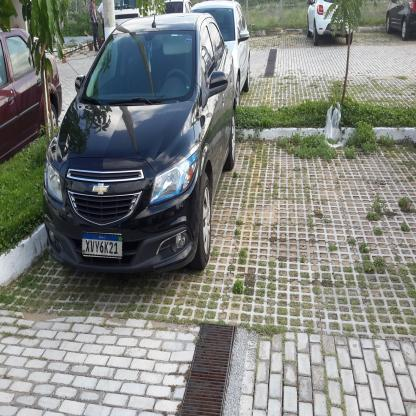PlacaM: (81, 232, 123, 258)
